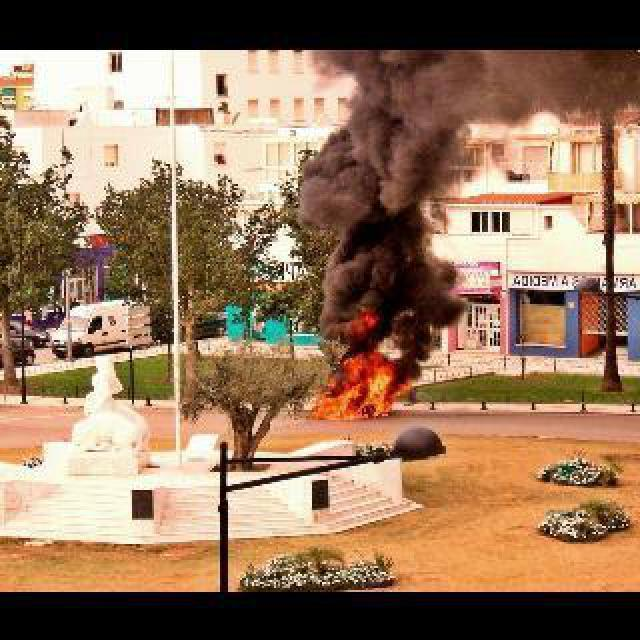Fire: (306, 348, 426, 416), (332, 302, 384, 336)
Smoke: (282, 48, 466, 344), (466, 48, 586, 134)
